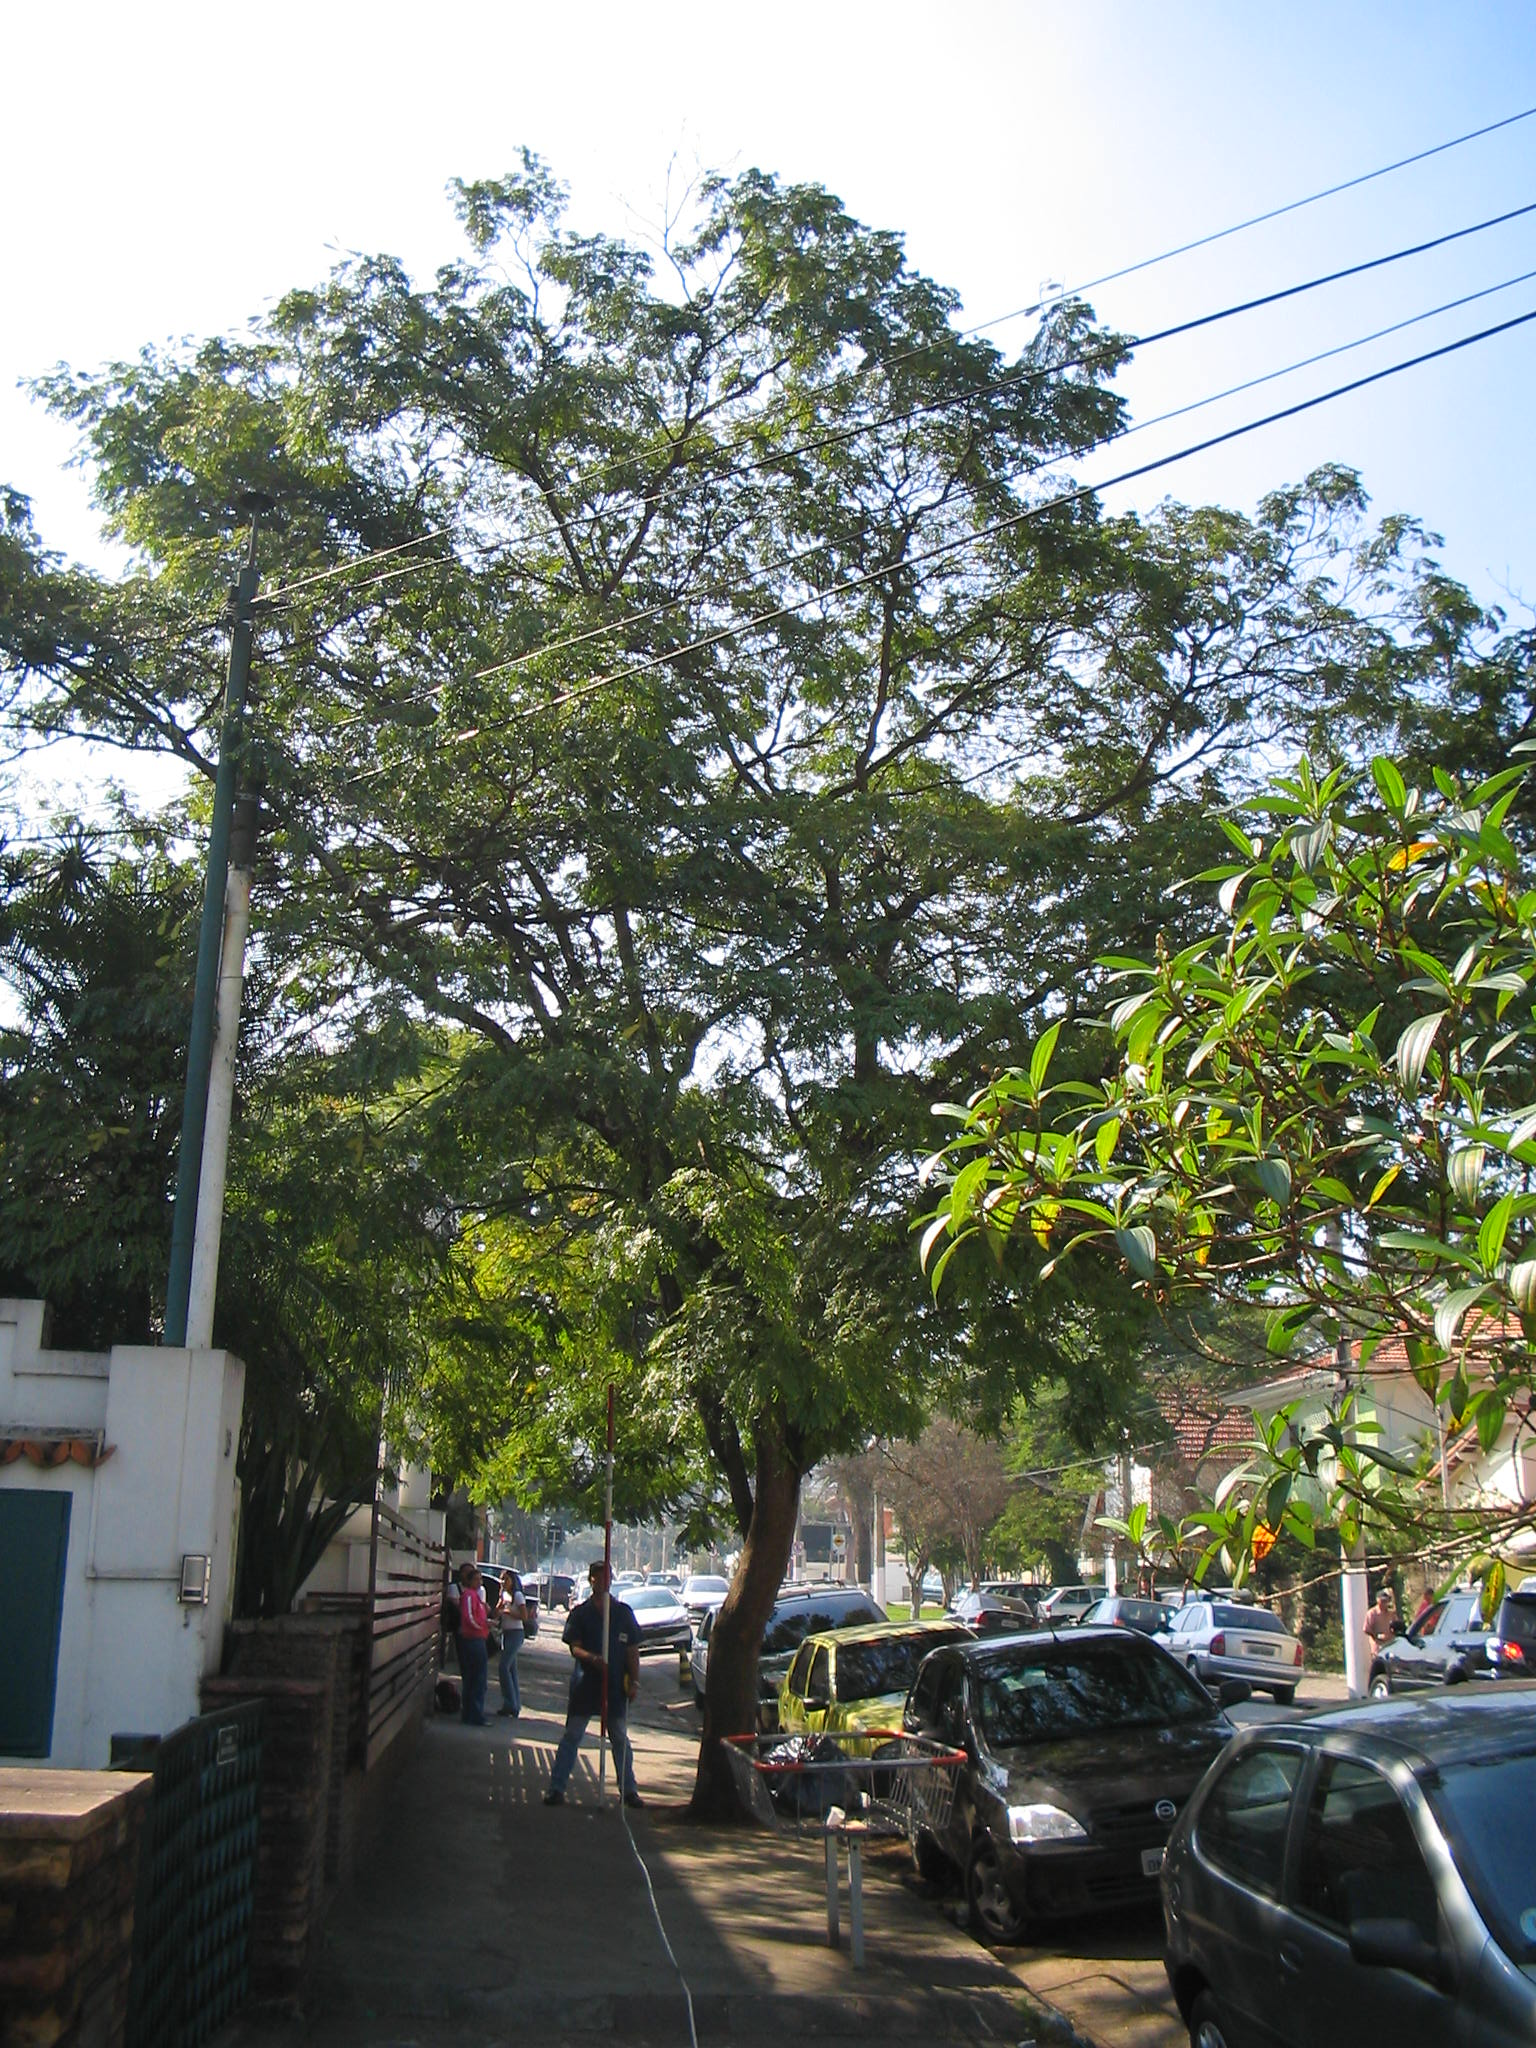crown: (16, 139, 1521, 1459)
stem: (671, 1482, 820, 1822)
stick: (584, 1388, 641, 1809)
tree: (3, 135, 1525, 1825)
